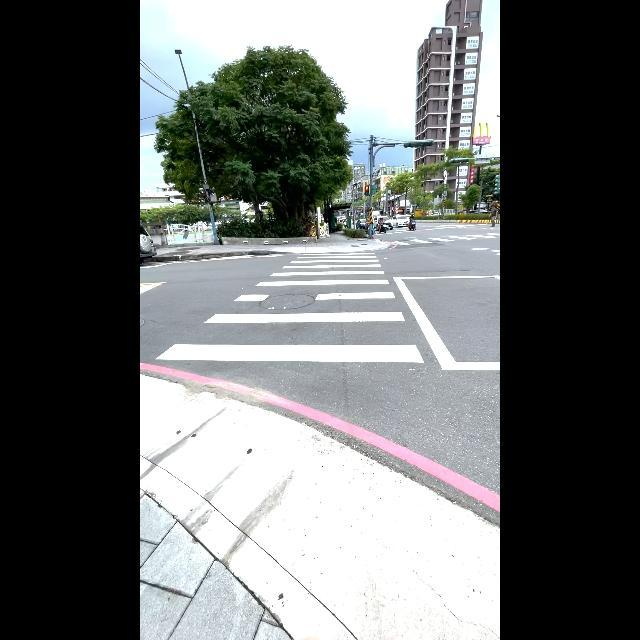sidewalk: (148, 250, 470, 504)
